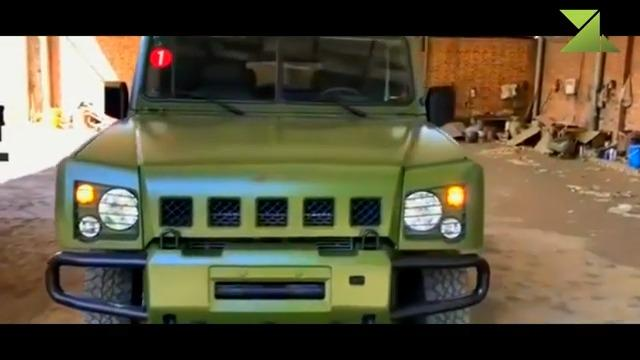MIL_HMMWV: (44, 36, 492, 325)
